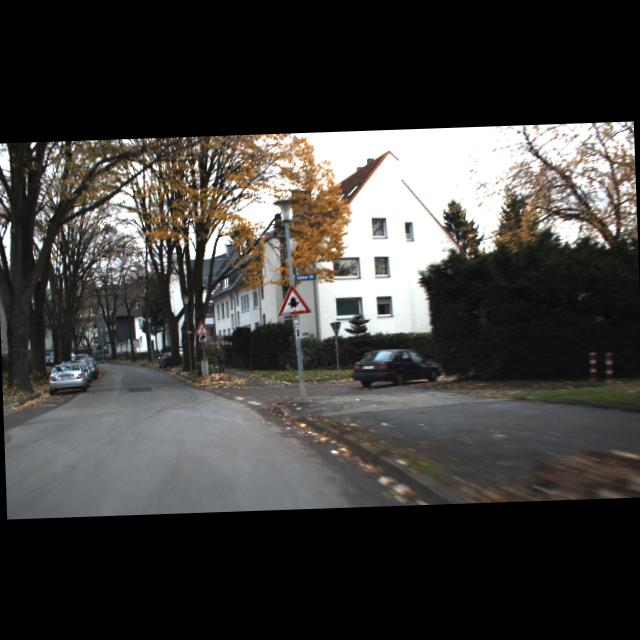danger: (276, 283, 312, 317), (192, 319, 210, 335)
